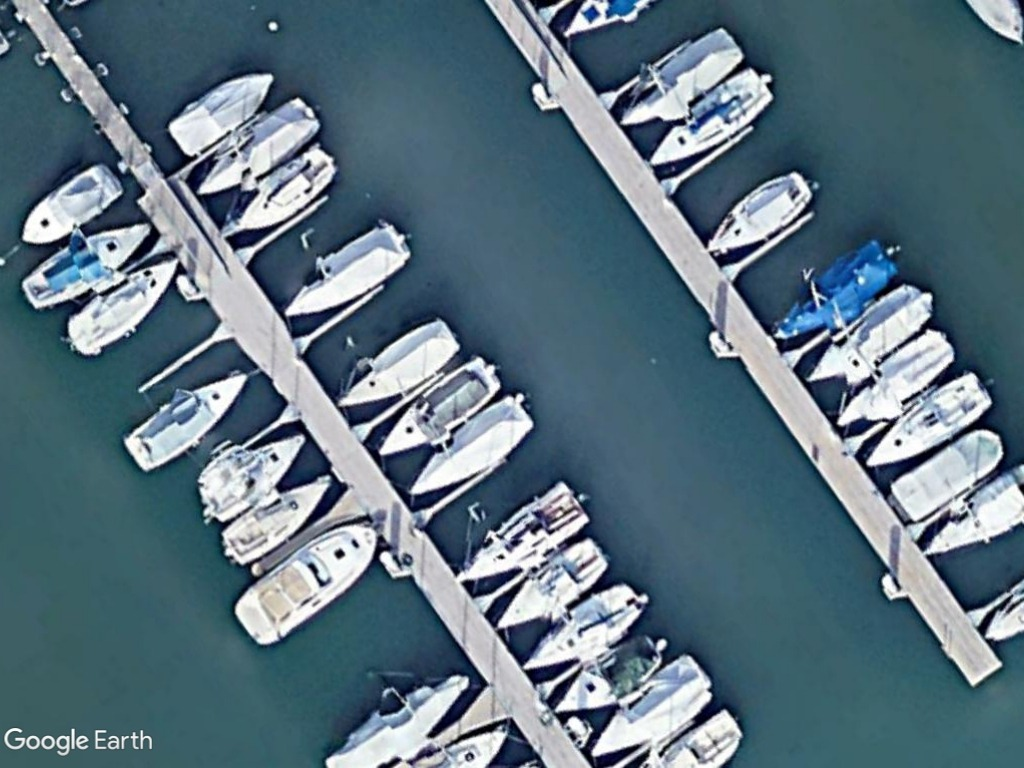boat: (233, 517, 378, 648), (119, 365, 253, 478), (280, 215, 412, 322), (376, 353, 505, 462), (804, 280, 934, 388), (404, 392, 535, 499), (645, 65, 777, 171), (587, 653, 717, 760), (456, 481, 589, 585), (617, 28, 747, 131), (191, 95, 322, 197), (330, 312, 462, 412), (864, 370, 994, 470), (769, 242, 900, 341), (19, 216, 152, 310), (834, 328, 955, 431), (488, 536, 615, 634), (63, 253, 181, 357), (218, 143, 338, 242), (885, 427, 1008, 523), (520, 581, 646, 674), (219, 470, 333, 568), (167, 65, 275, 162), (16, 159, 124, 250), (706, 168, 816, 257), (196, 431, 304, 518), (553, 634, 667, 716)
